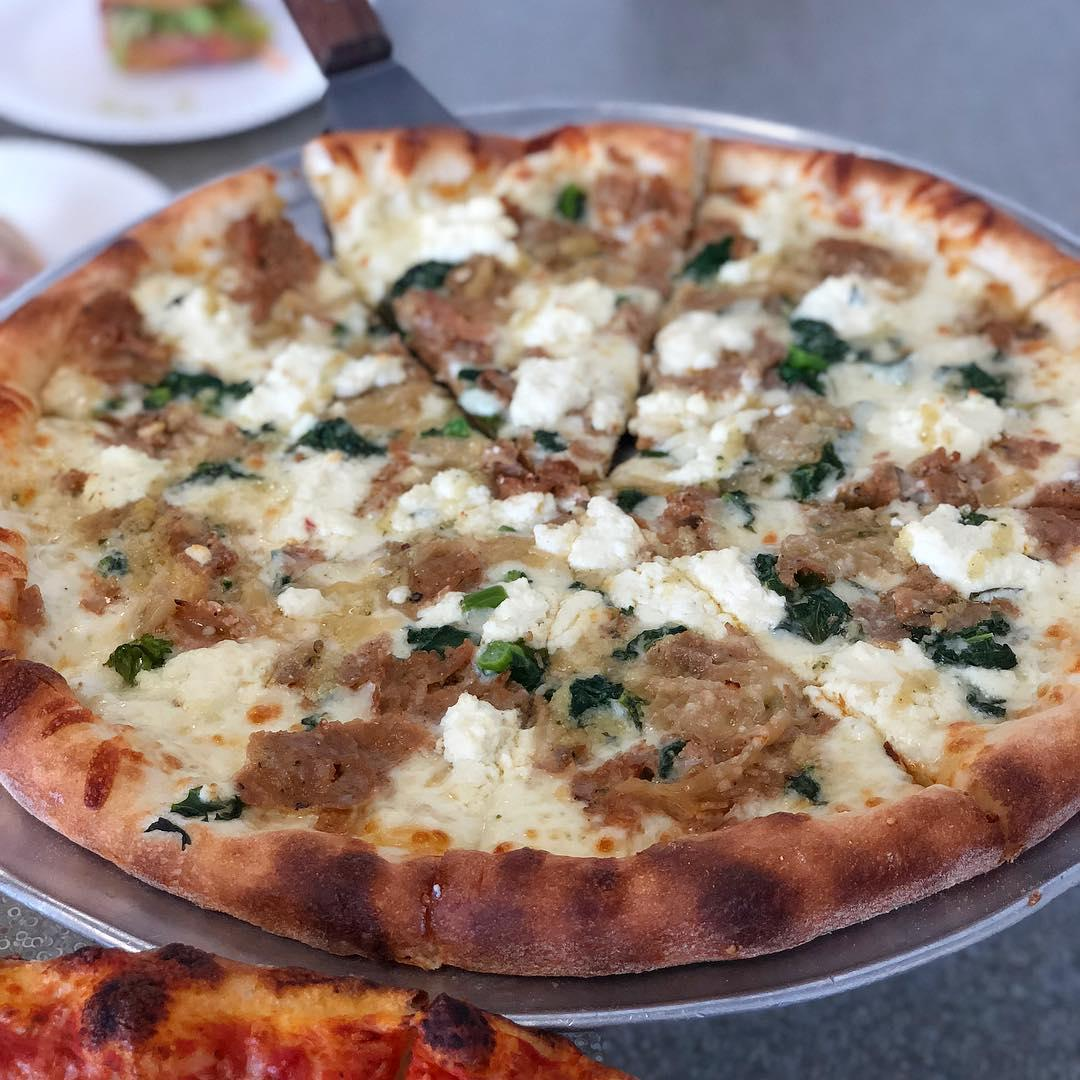Arugula: (747, 545, 873, 647), (759, 305, 870, 397), (135, 782, 252, 857), (897, 607, 1031, 672), (124, 361, 262, 416), (283, 407, 396, 467), (557, 670, 654, 735), (784, 432, 854, 513), (472, 632, 556, 696), (104, 624, 178, 686), (937, 354, 1014, 410), (674, 232, 742, 287), (397, 616, 478, 662), (611, 623, 693, 667), (953, 681, 1020, 733), (173, 452, 267, 484), (611, 421, 671, 464), (452, 579, 515, 617), (550, 173, 593, 227), (646, 735, 696, 781), (387, 255, 453, 289), (777, 770, 829, 812), (421, 412, 475, 447), (728, 484, 765, 532), (527, 417, 573, 454), (454, 356, 507, 383)
Pizza: (0, 115, 1080, 980)
